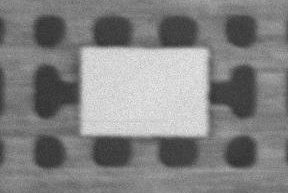DIE_CRACK: (81, 117, 162, 125)
